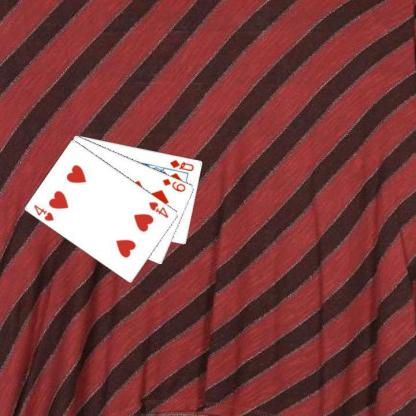4H: (31, 202, 56, 223), (146, 199, 170, 219)
9D: (160, 176, 187, 193)
QD: (168, 157, 195, 172)
